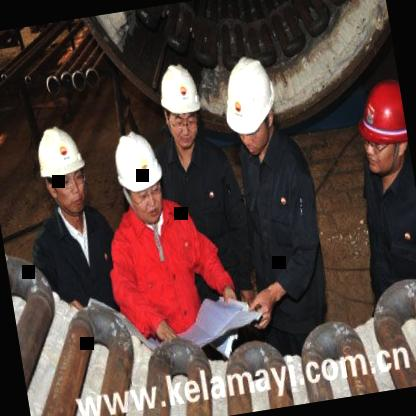helmet: (216, 50, 284, 162), (30, 116, 96, 218), (350, 72, 412, 179), (152, 54, 211, 157), (106, 131, 168, 226)
